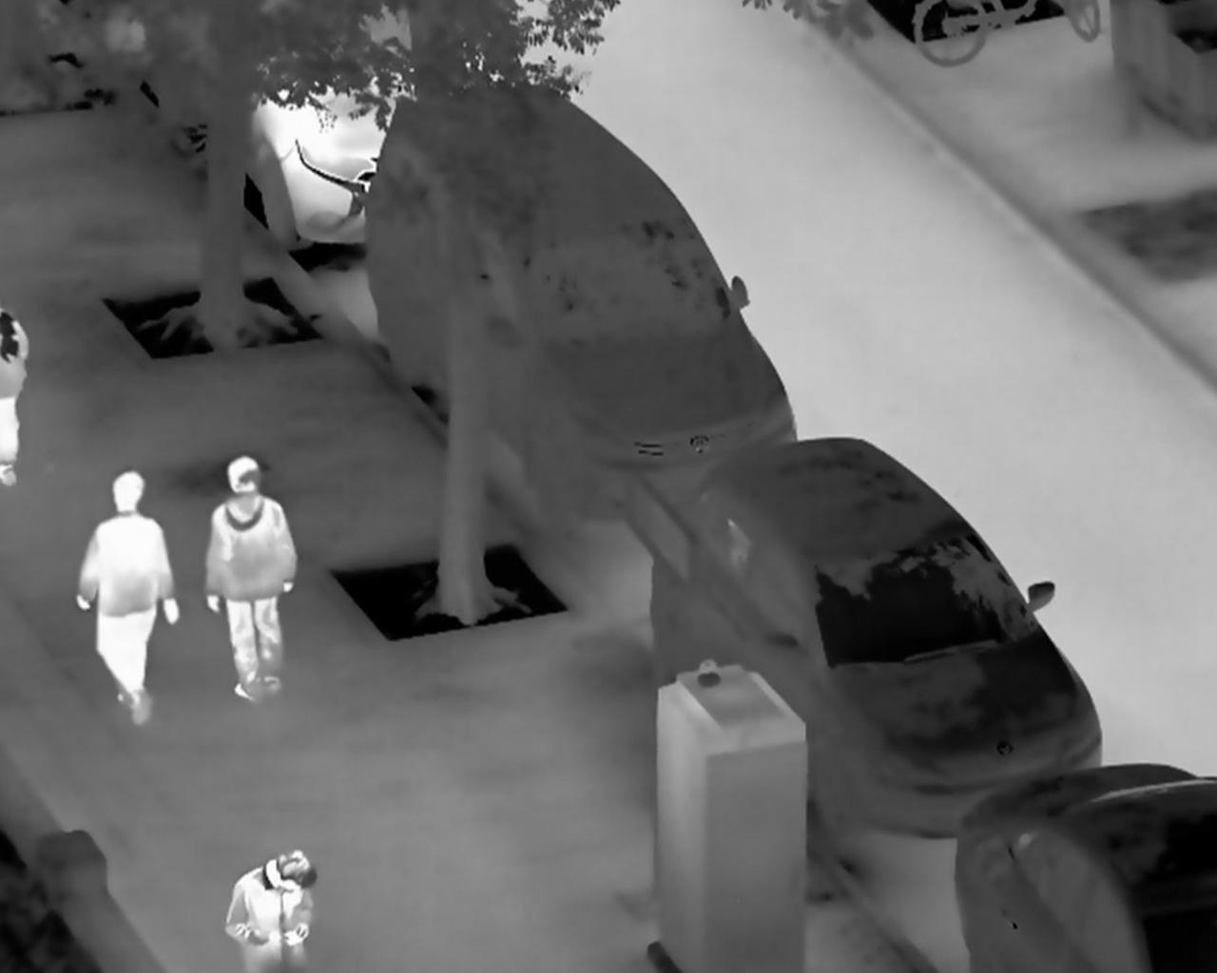person: (72, 467, 181, 728), (202, 454, 300, 705), (221, 849, 317, 973)
